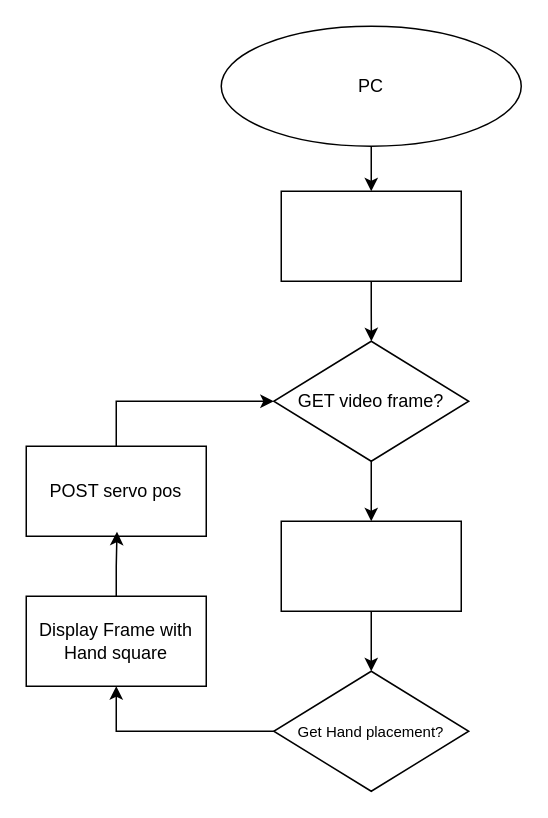
Image size: 548x818. Some labels were removed from this diagram. The shapes that lost their labels are listed below. From the top down, each one's centre as x and y in pixels, then its label:
pixel 370 235: Listen to esp32 TCP/IP server
pixel 370 565: Push Frame to Jetson
